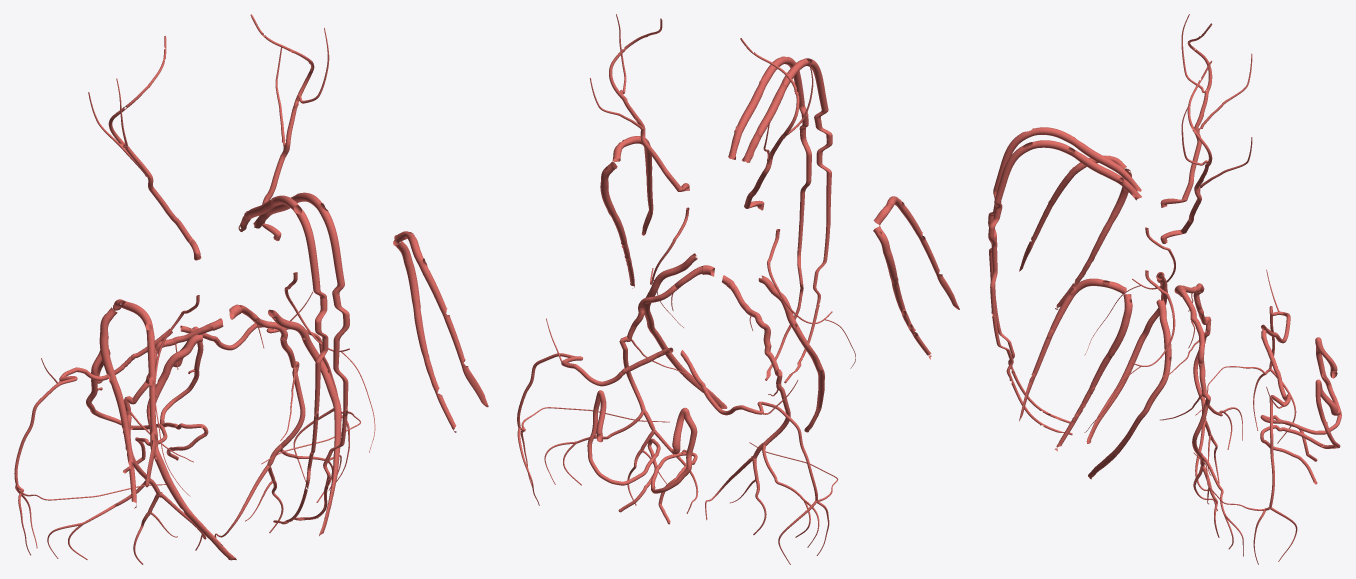
3 views of the same model, side by side, from view 1: azimuth 30°, elevation 25°; view 2: azimuth 150°, elevation 25°; view 3: azimuth 270°, elevation 25° (orthographic). The views are drawn at different scales.
Visible parts, largest first — view 1: PCA P2-P3 left, PCA P2-P3 right, MCA inferior division left, MCA superior division right, MCA inferior division right, MCA superior division left, SCA right, Ophthalmic left, Ophthalmic right, SCA left, AICA left, ACA A4 left (+5 smaller); view 2: SCA right, SCA left, PCA P2-P3 right, AICA right, PCA P2-P3 left, MCA superior division left, AICA left, Ophthalmic right, MCA inferior division left, ACA A2 left, ACA A2 right, Ophthalmic left (+4 smaller); view 3: PCA P2-P3 right, MCA superior division right, SCA right, PCA P2-P3 left, MCA inferior division right, Ophthalmic left, ACA A2 right, ACA A2 left, Ophthalmic right, AICA right, MCA superior division left, MCA inferior division left (+6 smaller).
Boxes of the visible parts, x1=… form: PCA P2-P3 left: x1=146, y1=334, x2=236, y2=560; PCA P2-P3 right: x1=268, y1=309, x2=341, y2=535; MCA inferior division left: x1=99, y1=307, x2=136, y2=508; MCA superior division right: x1=394, y1=231, x2=488, y2=407; MCA inferior division right: x1=393, y1=240, x2=456, y2=432; MCA superior division left: x1=113, y1=299, x2=156, y2=487; SCA right: x1=229, y1=304, x2=305, y2=466; Ophthalmic left: x1=108, y1=36, x2=201, y2=260; Ophthalmic right: x1=250, y1=14, x2=314, y2=240; SCA left: x1=124, y1=318, x2=223, y2=497; AICA left: x1=14, y1=328, x2=172, y2=485; ACA A4 left: x1=312, y1=277, x2=328, y2=435; SCA right: x1=619, y1=265, x2=714, y2=430; SCA left: x1=722, y1=275, x2=790, y2=460; PCA P2-P3 right: x1=644, y1=253, x2=727, y2=408; AICA right: x1=517, y1=347, x2=673, y2=428; PCA P2-P3 left: x1=758, y1=275, x2=824, y2=432; MCA superior division left: x1=873, y1=196, x2=959, y2=309; AICA left: x1=680, y1=350, x2=817, y2=500; Ophthalmic right: x1=609, y1=18, x2=689, y2=191; MCA inferior division left: x1=873, y1=226, x2=931, y2=359; ACA A2 left: x1=742, y1=60, x2=804, y2=162; ACA A2 right: x1=728, y1=57, x2=783, y2=159; Ophthalmic left: x1=740, y1=38, x2=799, y2=210; PCA P2-P3 right: x1=1088, y1=299, x2=1171, y2=479; MCA superior division right: x1=1019, y1=278, x2=1126, y2=421; SCA right: x1=1175, y1=285, x2=1210, y2=466; PCA P2-P3 left: x1=1086, y1=272, x2=1167, y2=443; MCA inferior division right: x1=1054, y1=294, x2=1132, y2=451; Ophthalmic left: x1=1160, y1=23, x2=1212, y2=207; ACA A2 right: x1=1038, y1=140, x2=1141, y2=200; ACA A2 left: x1=1040, y1=127, x2=1141, y2=191; Ophthalmic right: x1=1160, y1=60, x2=1212, y2=243; AICA right: x1=1261, y1=330, x2=1291, y2=508; MCA superior division left: x1=1019, y1=155, x2=1126, y2=271; MCA inferior division left: x1=1055, y1=168, x2=1131, y2=309.
Bounding box in the file's own units: 95.79 × 141 × 96.63.
